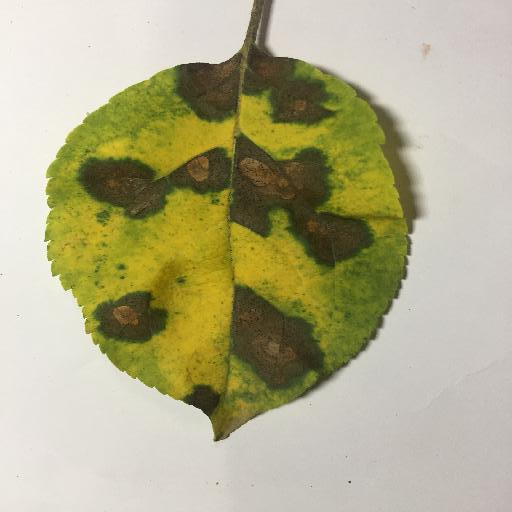Brown_Spot: (243, 147, 372, 264), (223, 286, 338, 378), (234, 49, 327, 118), (170, 55, 243, 125), (93, 286, 173, 344), (158, 147, 229, 199), (88, 161, 157, 214)
